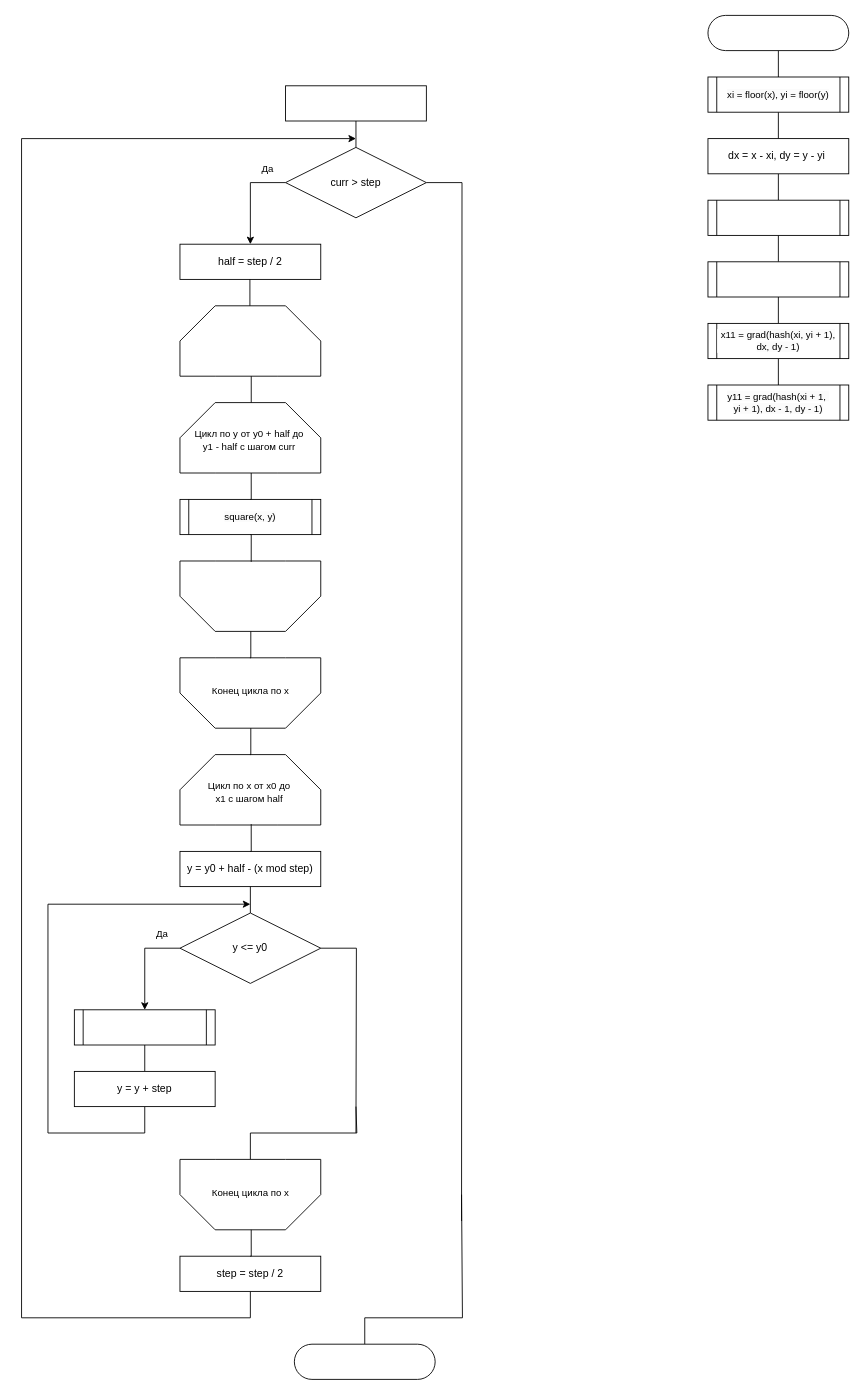
The diagram is 864 pixels wide and 1395 high, and some of its shapes have lost their labels. The centre of each missing label's shape, as x and y in pixels:
"curr = size" goes at (355,103).
"diamond(x, y)" goes at (144,1027).
"x00 = grad(hash(xi, yi), dx, dy)" goes at (778,217).
"y00 = grad(hash(xi + 1, yi), dx - 1, dy)" goes at (778,279).
"Конец" goes at (364,1361).
"Конец цикла по y" goes at (250,560).
"Начало" goes at (778,33).
"Цикл по x от x0 + half до x1 - half с шагом curr" goes at (250,376).
